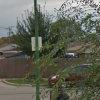Car: (48, 59, 100, 95)
